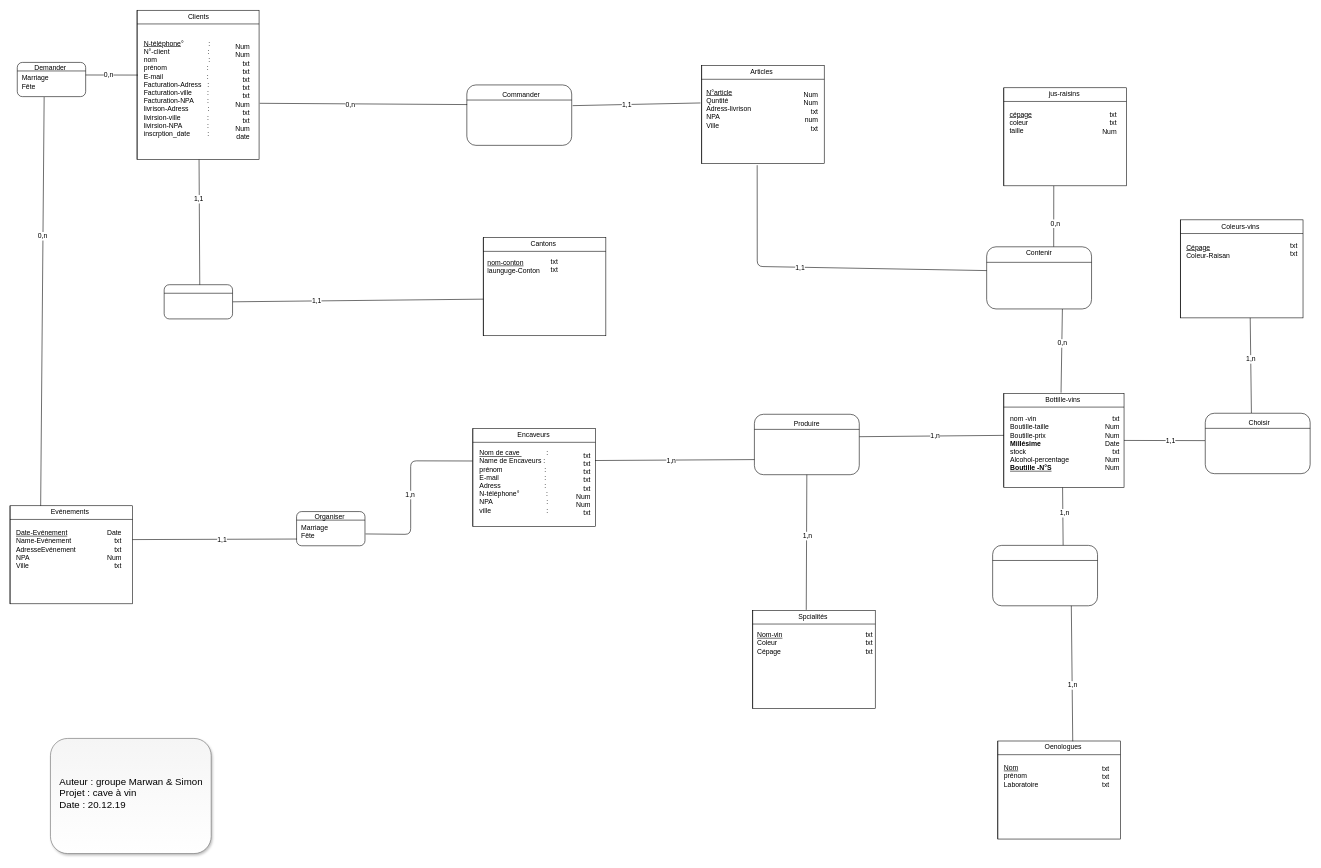
Some shapes in this 1321 by 868 pixel diagram are drawn without their labels. The centre of each missing label's shape, as x and y in pixels:
Déguster: pixel 1045 575
Résider: pixel 198 301
